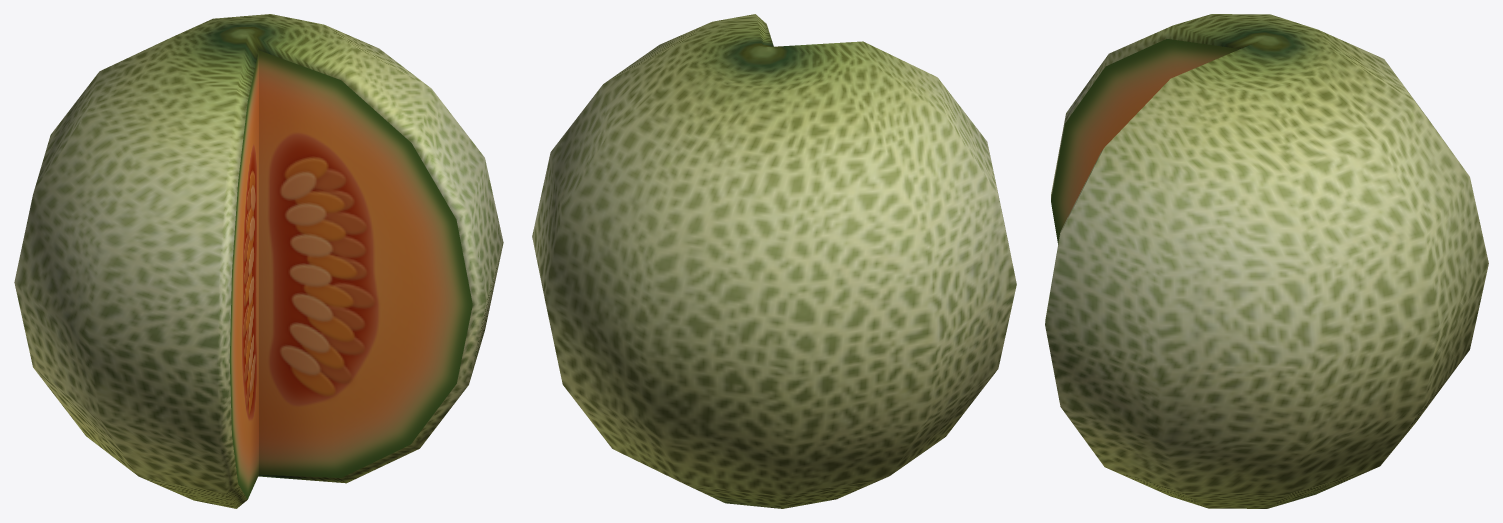
The model's file is Cantaloupe_Cut.fbx.
3 views of the same model, side by side, from view 1: azimuth 30°, elevation 25°; view 2: azimuth 150°, elevation 25°; view 3: azimuth 270°, elevation 25° (orthographic).
Visible parts, largest first — view 1: Canteloupe_Cut; view 2: Canteloupe_Cut; view 3: Canteloupe_Cut.
Part boxes in pixels (x1=…): Canteloupe_Cut: x1=14, y1=14, x2=503, y2=508; Canteloupe_Cut: x1=532, y1=14, x2=1016, y2=508; Canteloupe_Cut: x1=1045, y1=14, x2=1488, y2=508.
Size of the model in its own units: 45.93 by 47.12 by 42.7.
